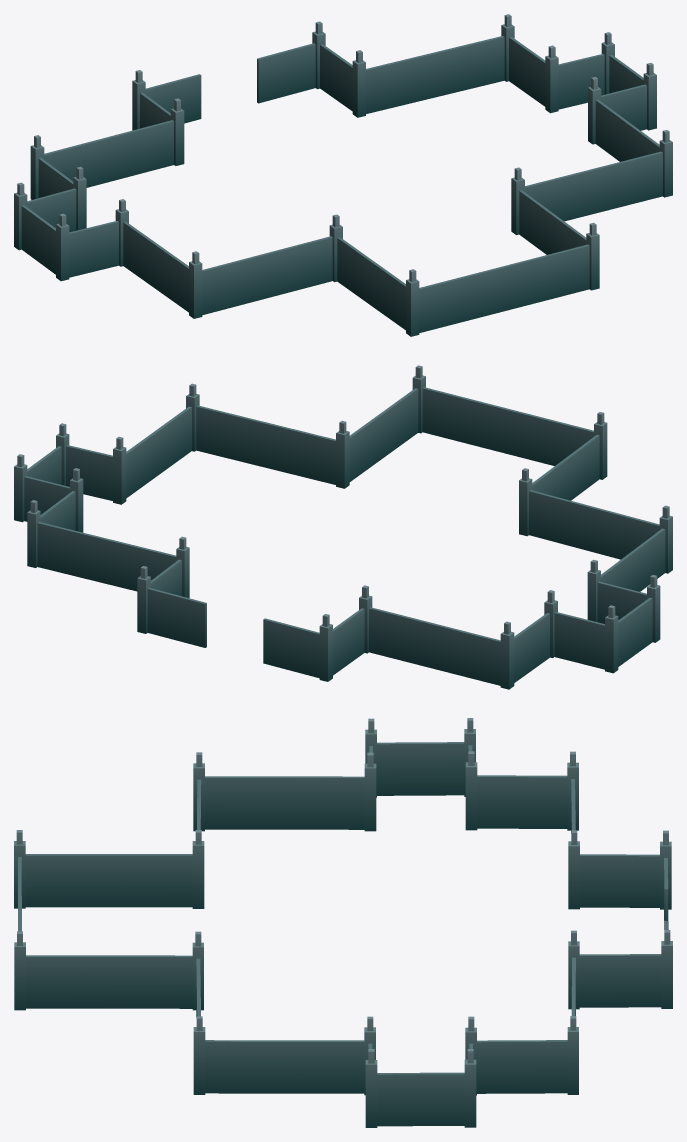
3 renders of one model, top to bottom at view 1: azimuth 30°, elevation 25°; view 2: azimuth 150°, elevation 25°; view 3: azimuth 270°, elevation 25°, orthographic. The views are drawn at different scales.
Parts seen in each view (by area): view 1: Cube.072; view 2: Cube.072; view 3: Cube.072.
Part boxes in pixels (x1,y1,x2,y2): Cube.072: (14,14,672,336); Cube.072: (14,365,672,689); Cube.072: (14,718,672,1127).
Size of the model in its own units: 70.17 by 7.98 by 56.81.
